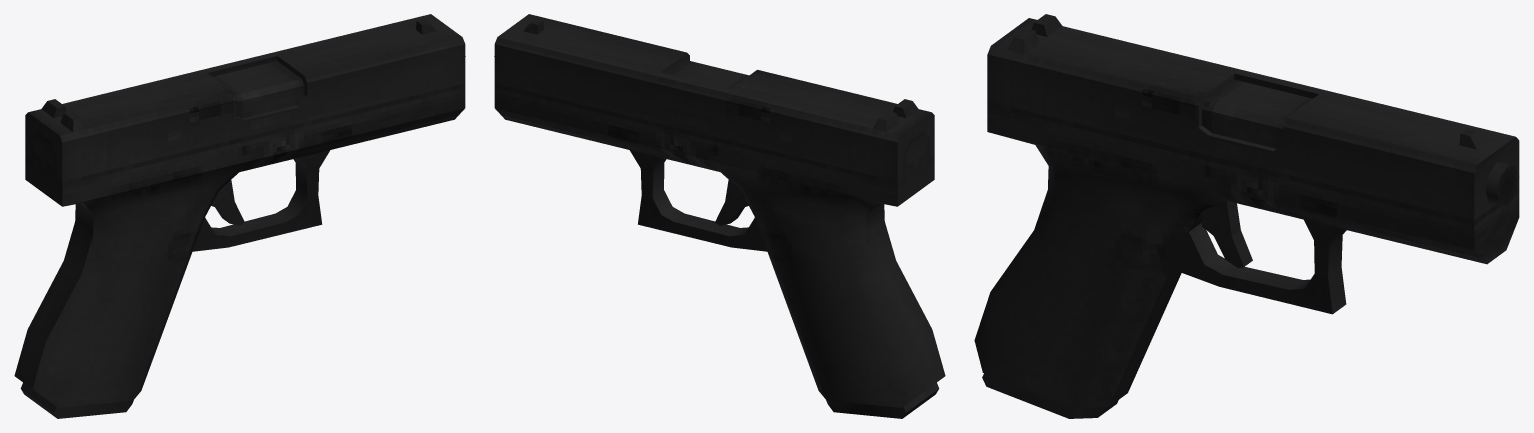
Rendered from pistol_mp_1.glb.
The picture shows the model from 3 angles, left to right: view 1: azimuth 30°, elevation 25°; view 2: azimuth 150°, elevation 25°; view 3: azimuth 330°, elevation 25°; orthographic projection. The views are drawn at different scales.
Parts seen in each view (by area): view 1: pistol_mp_1, pistol_mp_1_slide, pistol_mp_1_mag_initial, pistol_mp_1_trigger; view 2: pistol_mp_1, pistol_mp_1_slide, pistol_mp_1_mag_initial, pistol_mp_1_trigger; view 3: pistol_mp_1, pistol_mp_1_slide, pistol_mp_1_trigger, pistol_mp_1_mag_initial.
Boxes of the visible parts, x1=… form: pistol_mp_1: x1=14, y1=56, x2=465, y2=407; pistol_mp_1_slide: x1=25, y1=14, x2=465, y2=185; pistol_mp_1_mag_initial: x1=20, y1=382, x2=133, y2=418; pistol_mp_1_trigger: x1=211, y1=180, x2=244, y2=225; pistol_mp_1: x1=494, y1=56, x2=945, y2=407; pistol_mp_1_slide: x1=494, y1=14, x2=934, y2=185; pistol_mp_1_mag_initial: x1=826, y1=382, x2=939, y2=418; pistol_mp_1_trigger: x1=715, y1=180, x2=748, y2=225; pistol_mp_1: x1=974, y1=79, x2=1519, y2=407; pistol_mp_1_slide: x1=987, y1=14, x2=1519, y2=225; pistol_mp_1_trigger: x1=1201, y1=201, x2=1252, y2=268; pistol_mp_1_mag_initial: x1=982, y1=373, x2=1118, y2=418.
Bounding box in the file's own units: 0.2691 × 0.1802 × 0.04.
2 materials, 2 textured.
